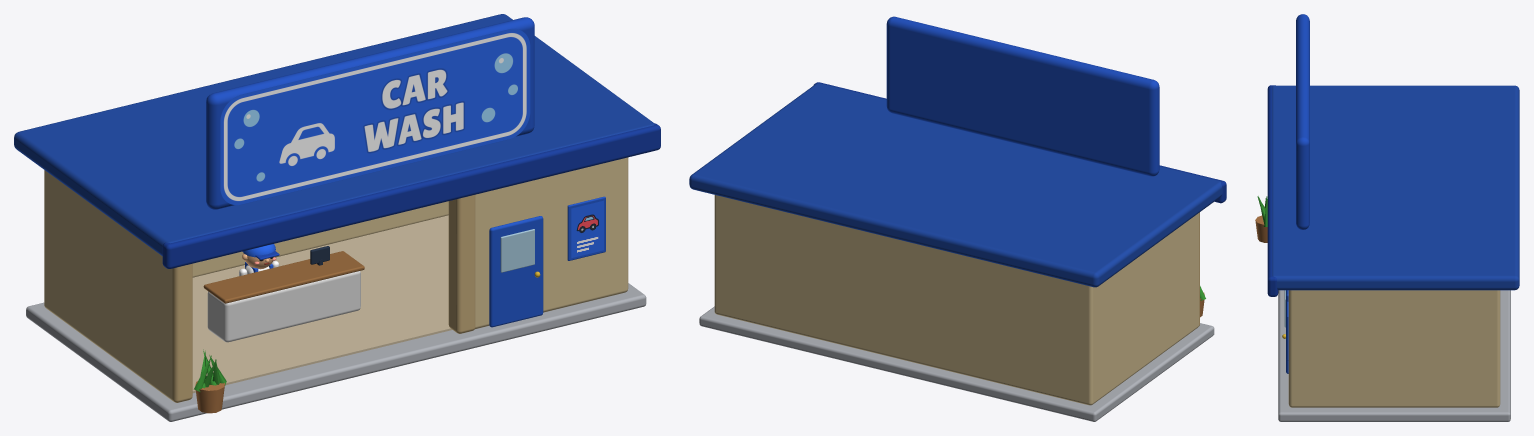
File: shop.glb
3 renders of one model, left to right at view 1: azimuth 30°, elevation 25°; view 2: azimuth 150°, elevation 25°; view 3: azimuth 270°, elevation 25°, orthographic. The views are drawn at different scales.
Parts seen in each view (by area): view 1: Shop; view 2: Shop; view 3: Shop.
Boxes of the visible parts, x1,y1,x2,y2 form: Shop: [14, 14, 660, 421]; Shop: [689, 16, 1226, 421]; Shop: [1255, 14, 1519, 421].
Size of the model in its own units: 13.04 by 7.65 by 7.5.
Materials: 10 (2 with a texture image).
